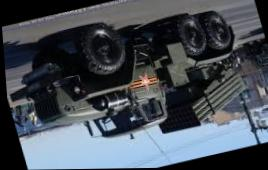rszo: (0, 0, 260, 166), (241, 38, 268, 72)
